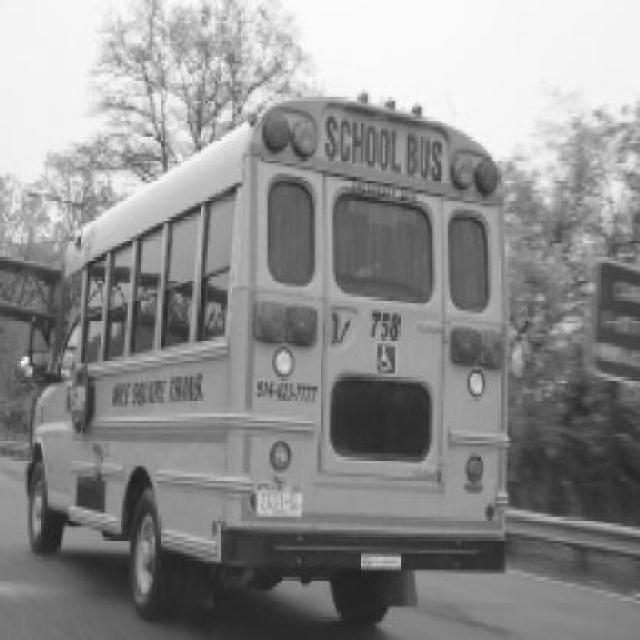Bus- Small: (18, 92, 512, 626)
